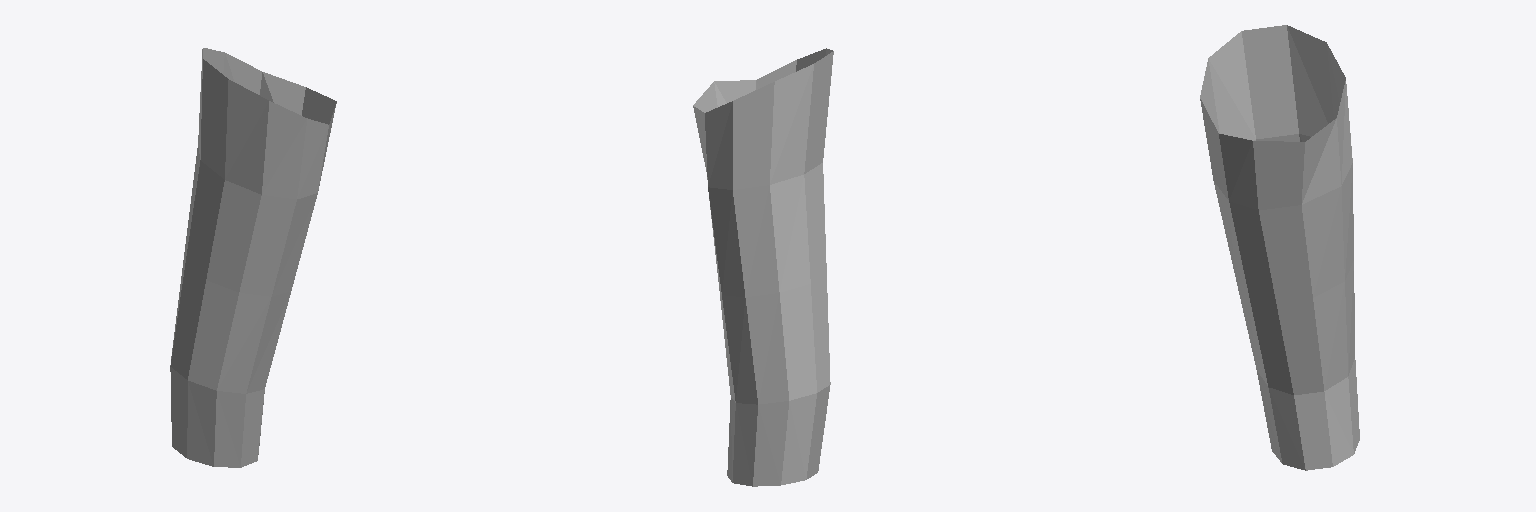
Rendered from rightleg1.obj.
The picture shows the model from 3 angles: view 1: azimuth 30°, elevation 25°; view 2: azimuth 150°, elevation 25°; view 3: azimuth 270°, elevation 25°; orthographic projection.
Visible parts, largest first — view 1: body; view 2: body; view 3: body.
Part boxes in pixels (x1,y1,x2,y2): body: (170, 48, 336, 467); body: (693, 48, 833, 486); body: (1200, 25, 1359, 470).
Size of the model in its own units: 23.7 by 69.52 by 24.39.